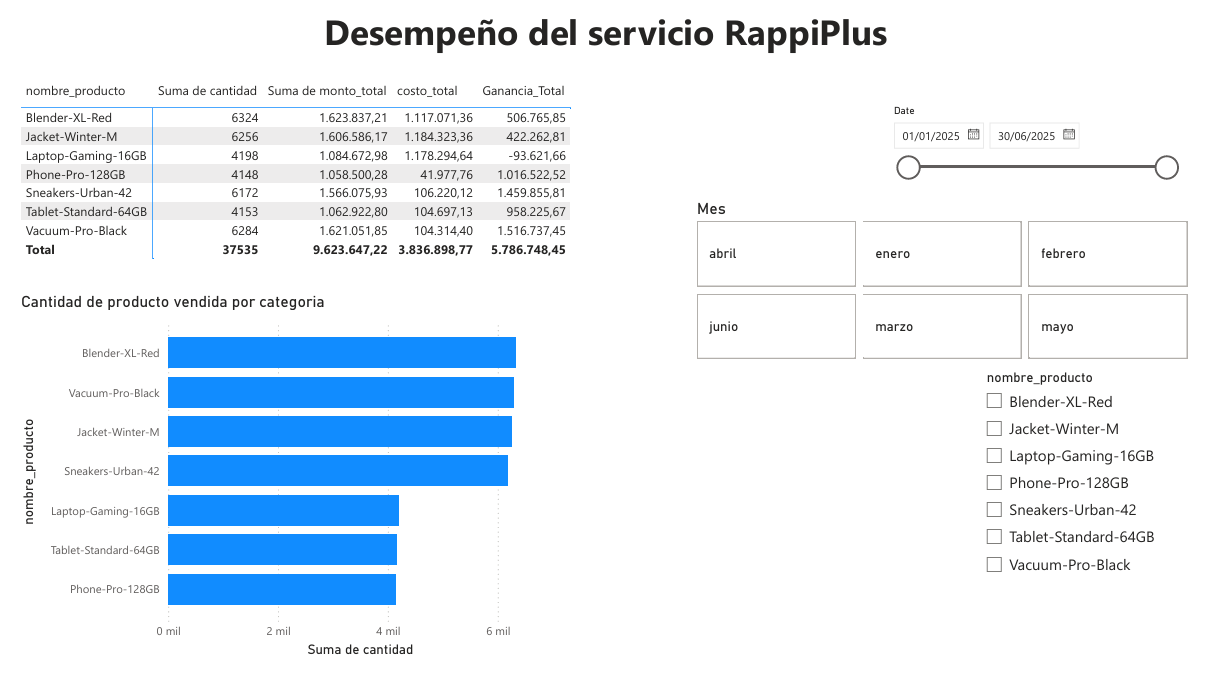

Layout of this report page (visuals, bound fields, positions):
{"tool":"powerbi","page":{"name":"Página 2","canvas":[1280,720],"ordinal":1},"visuals":[{"type":"textbox","box":[138.1,0,980.4,77.8],"z":0},{"type":"pivotTable","fields":{"Rows":["orders.nombre_producto"],"Values":["Sum(orders.cantidad)","Sum(orders.monto_total)","orders.costo_total","orders.Ganancia_Total"]},"box":[0,78.7,627.9,220.1],"z":1000},{"type":"clusteredBarChart","title":"Cantidad de producto vendida por categoria","fields":{"Category":["catalog.nombre_producto"],"Y":["Sum(orders.cantidad)"]},"box":[0,308.9,589.5,393.7],"z":2000},{"type":"advancedSlicerVisual","fields":{"Values":["Dim_Fecha.Mes"]},"box":[720.8,210,535,176.7],"z":3000},{"type":"slicer","fields":{"Values":["catalog.nombre_producto"]},"box":[1021.6,386.6,226.1,295.8],"z":3001},{"type":"slicer","fields":{"Values":["Dim_Fecha.Date"]},"box":[922.6,104,325,106],"z":3002}]}

Visuals, with their boxes in screenshot pixels (x1, y1, x2, y2), scaled from the page's 1280x720 canvas onto the 1210x687 screenshot:
textbox: [x1=131, y1=0, x2=1057, y2=74]
pivotTable - orders.nombre_producto x Sum(orders.cantidad): [x1=0, y1=75, x2=594, y2=285]
"Cantidad de producto vendida por categoria" clusteredBarChart: [x1=0, y1=295, x2=557, y2=670]
advancedSlicerVisual - Dim_Fecha.Mes: [x1=681, y1=200, x2=1187, y2=369]
slicer - catalog.nombre_producto: [x1=966, y1=369, x2=1179, y2=651]
slicer - Dim_Fecha.Date: [x1=872, y1=99, x2=1179, y2=200]
